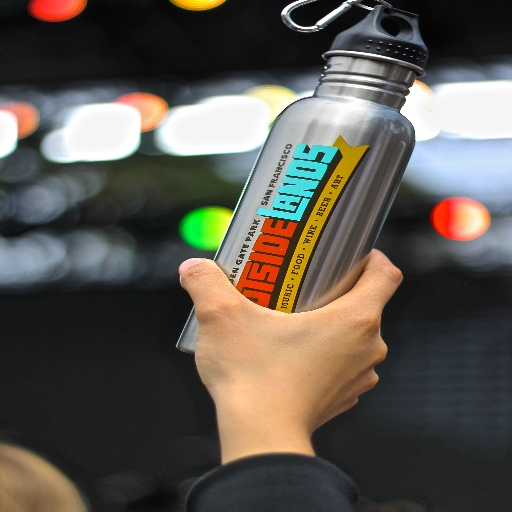hand: (170, 253, 398, 462)
